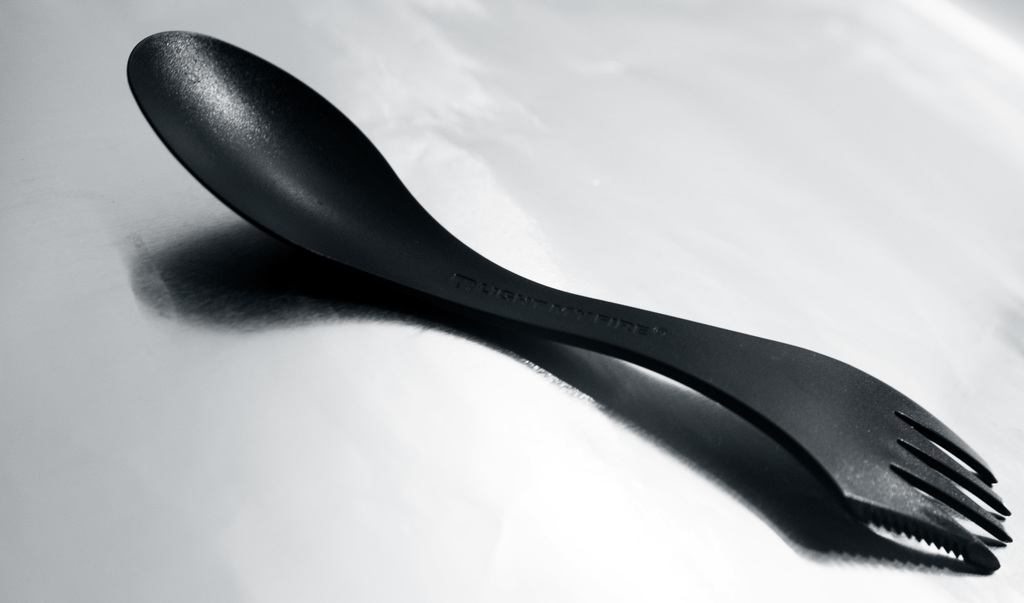fork: (126, 30, 1013, 571)
